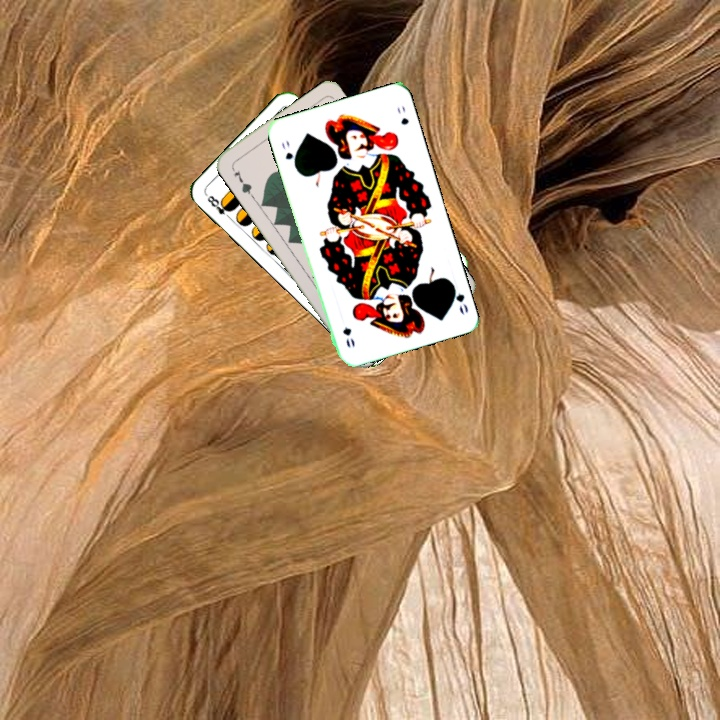E8: (203, 191, 235, 223)
G7: (230, 166, 255, 199)
GO: (447, 278, 471, 317), (277, 137, 299, 171)
